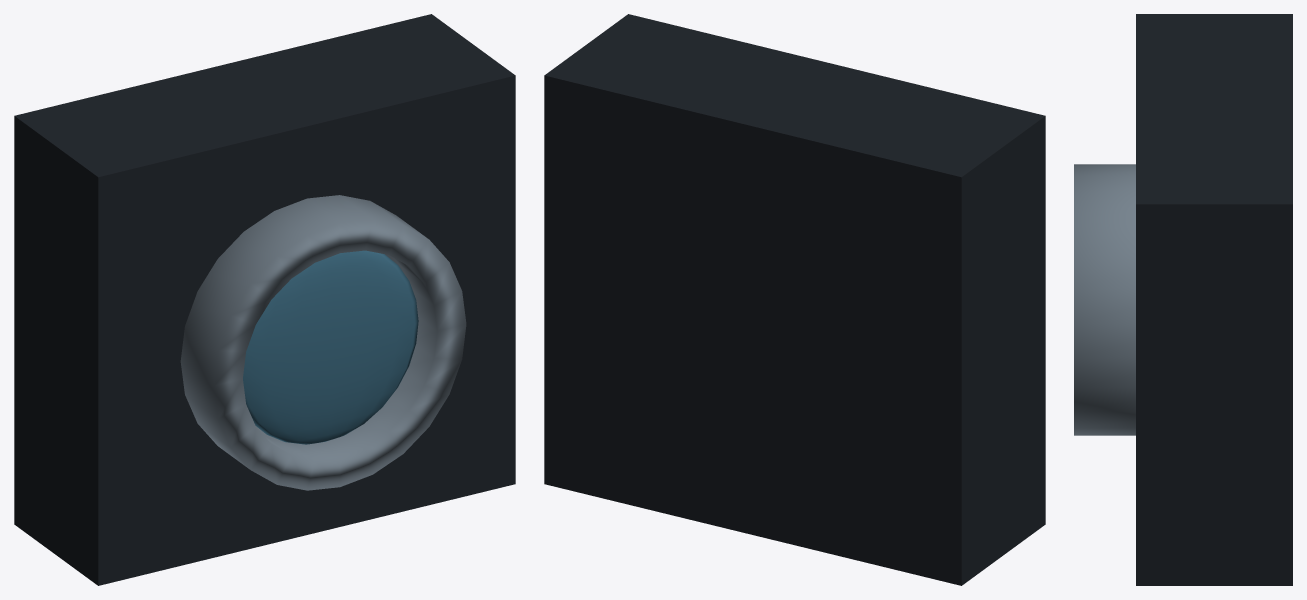
File: perseverance_body.front_equipment.hazcam_04.glb
3 views of the same model, side by side, from view 1: azimuth 30°, elevation 25°; view 2: azimuth 150°, elevation 25°; view 3: azimuth 270°, elevation 25° (orthographic). The views are drawn at different scales.
Visible parts, largest first — view 1: perseverance_body.front_equipment.hazcam_04.mesh_Carbon_comp, perseverance_body.front_equipment.hazcam_04.mesh_Machined_st, perseverance_body.front_equipment.hazcam_04.lens.mesh_Coated; view 2: perseverance_body.front_equipment.hazcam_04.mesh_Carbon_comp; view 3: perseverance_body.front_equipment.hazcam_04.mesh_Carbon_comp, perseverance_body.front_equipment.hazcam_04.mesh_Machined_st.
Boxes of the visible parts, bbox=[...] form: perseverance_body.front_equipment.hazcam_04.mesh_Carbon_comp: bbox=[14, 14, 515, 585]; perseverance_body.front_equipment.hazcam_04.mesh_Machined_st: bbox=[180, 195, 466, 490]; perseverance_body.front_equipment.hazcam_04.lens.mesh_Coated: bbox=[243, 250, 418, 444]; perseverance_body.front_equipment.hazcam_04.mesh_Carbon_comp: bbox=[544, 14, 1045, 585]; perseverance_body.front_equipment.hazcam_04.mesh_Carbon_comp: bbox=[1136, 14, 1292, 585]; perseverance_body.front_equipment.hazcam_04.mesh_Machined_st: bbox=[1074, 164, 1135, 435].
Size of the model in its own units: 0.109 by 0.102 by 0.053.
